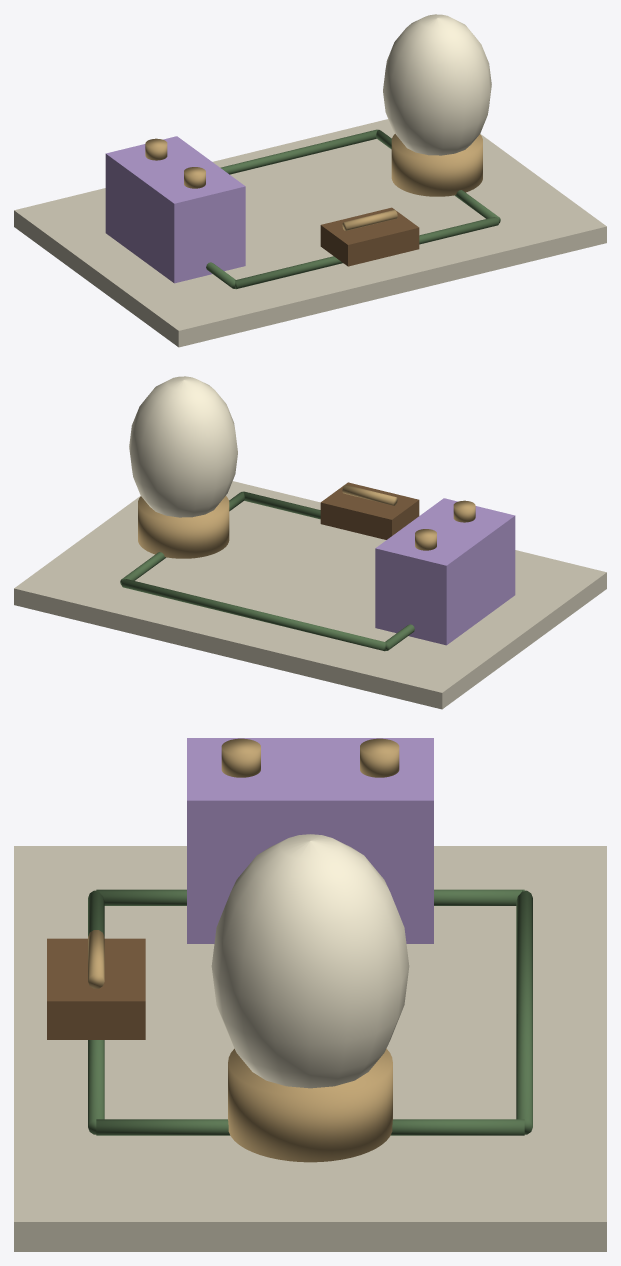
The model's file is circuit.glb.
The picture shows the model from 3 angles, top to bottom: view 1: azimuth 30°, elevation 25°; view 2: azimuth 150°, elevation 25°; view 3: azimuth 270°, elevation 25°; orthographic projection. The views are drawn at different scales.
Visible parts, largest first — view 1: circuit_board, circuit_battery, circuit_lamp_bulb, circuit_lamp_base, circuit_switch_base, circuit_insulated_wire, circuit_insulated_wire.003, circuit_closed_switch, circuit_battery_terminal.001; view 2: circuit_board, circuit_battery, circuit_lamp_bulb, circuit_lamp_base, circuit_switch_base, circuit_insulated_wire.003, circuit_insulated_wire, circuit_closed_switch, circuit_battery_terminal; view 3: circuit_board, circuit_lamp_bulb, circuit_battery, circuit_lamp_base, circuit_switch_base, circuit_insulated_wire.003, circuit_insulated_wire.002, circuit_insulated_wire.005, circuit_insulated_wire, circuit_insulated_wire.001, circuit_insulated_wire.004, circuit_battery_terminal (+2 smaller).
Boxes of the visible parts, left/top/right/bottom form: circuit_board: left=14, top=119, right=606, bottom=347; circuit_battery: left=105, top=136, right=245, bottom=283; circuit_lamp_bulb: left=383, top=14, right=491, bottom=155; circuit_lamp_base: left=391, top=134, right=482, bottom=196; circuit_switch_base: left=320, top=207, right=419, bottom=266; circuit_insulated_wire: left=235, top=217, right=498, bottom=289; circuit_insulated_wire.003: left=220, top=129, right=377, bottom=174; circuit_closed_switch: left=342, top=210, right=397, bottom=230; circuit_battery_terminal.001: left=145, top=138, right=167, bottom=160; circuit_board: left=14, top=481, right=606, bottom=709; circuit_battery: left=375, top=498, right=515, bottom=645; circuit_lamp_bulb: left=129, top=376, right=237, bottom=517; circuit_lamp_base: left=138, top=496, right=229, bottom=558; circuit_switch_base: left=320, top=482, right=419, bottom=539; circuit_insulated_wire.003: left=122, top=579, right=385, bottom=651; circuit_insulated_wire: left=243, top=491, right=320, bottom=519; circuit_closed_switch: left=342, top=484, right=397, bottom=505; circuit_battery_terminal: left=453, top=500, right=475, bottom=522; circuit_board: left=14, top=846, right=606, bottom=1251; circuit_lamp_bulb: left=211, top=834, right=409, bottom=1088; circuit_battery: left=187, top=738, right=433, bottom=943; circuit_lamp_base: left=228, top=1048, right=392, bottom=1162; circuit_switch_base: left=47, top=938, right=145, bottom=1039; circuit_insulated_wire.003: left=516, top=890, right=532, bottom=1134; circuit_insulated_wire.002: left=96, top=1119, right=230, bottom=1135; circuit_insulated_wire.005: left=390, top=1119, right=524, bottom=1135; circuit_insulated_wire: left=88, top=890, right=104, bottom=1134; circuit_insulated_wire.001: left=96, top=889, right=186, bottom=905; circuit_insulated_wire.004: left=434, top=889, right=524, bottom=905; circuit_battery_terminal: left=221, top=738, right=260, bottom=777.
Bounding box in the file's own units: 2.7 × 1.12 × 1.8.
